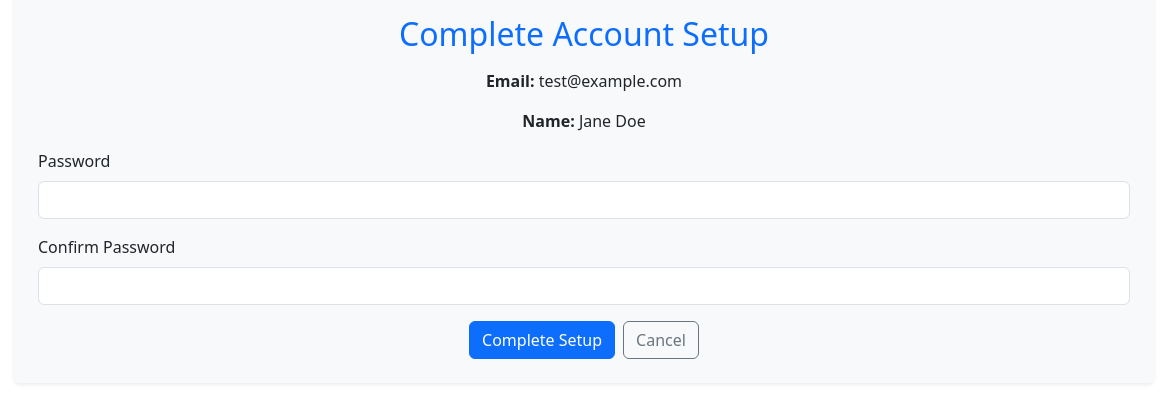
Test case: CompleteAccountSetup › handles password mismatch error
Type "password123" into the 1st password field at coordinates (584, 200), box [38, 181, 1130, 219]
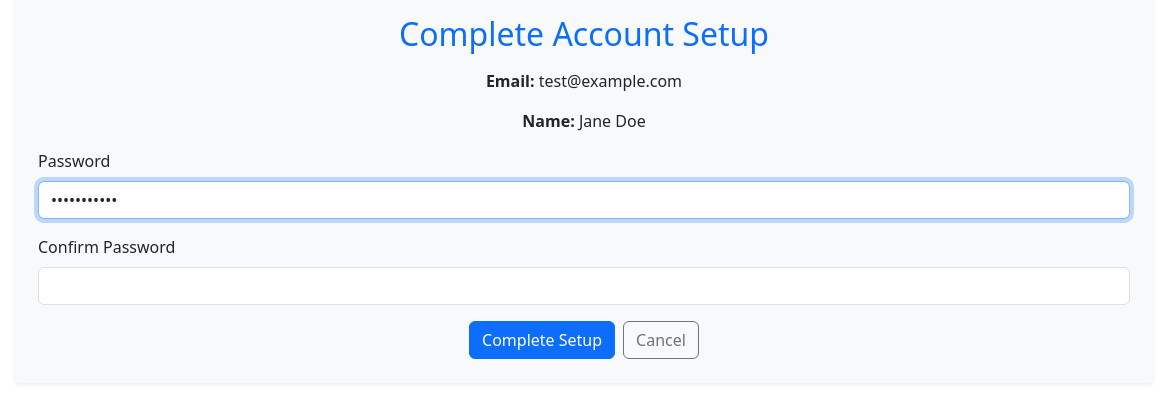
Type "password321" into the password field below "Confirm Password" at coordinates (584, 286), box [38, 267, 1130, 305]
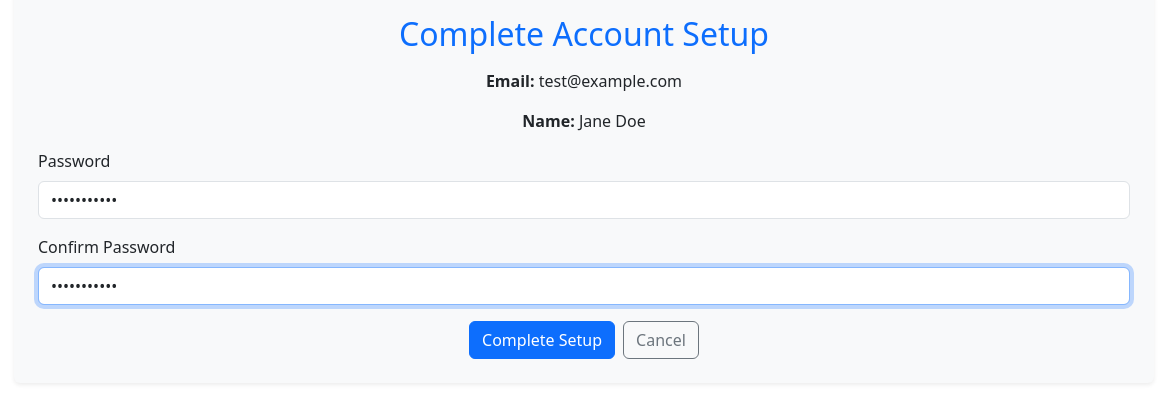
Click the button "Complete Setup" at coordinates (542, 340), box [469, 321, 615, 359]
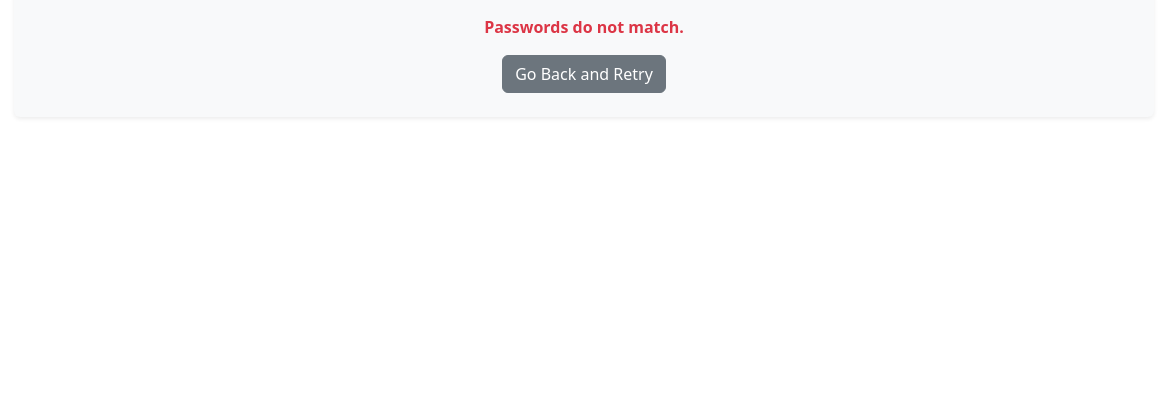
Now the text "Passwords do not match." is shown, box [484, 16, 684, 38]
